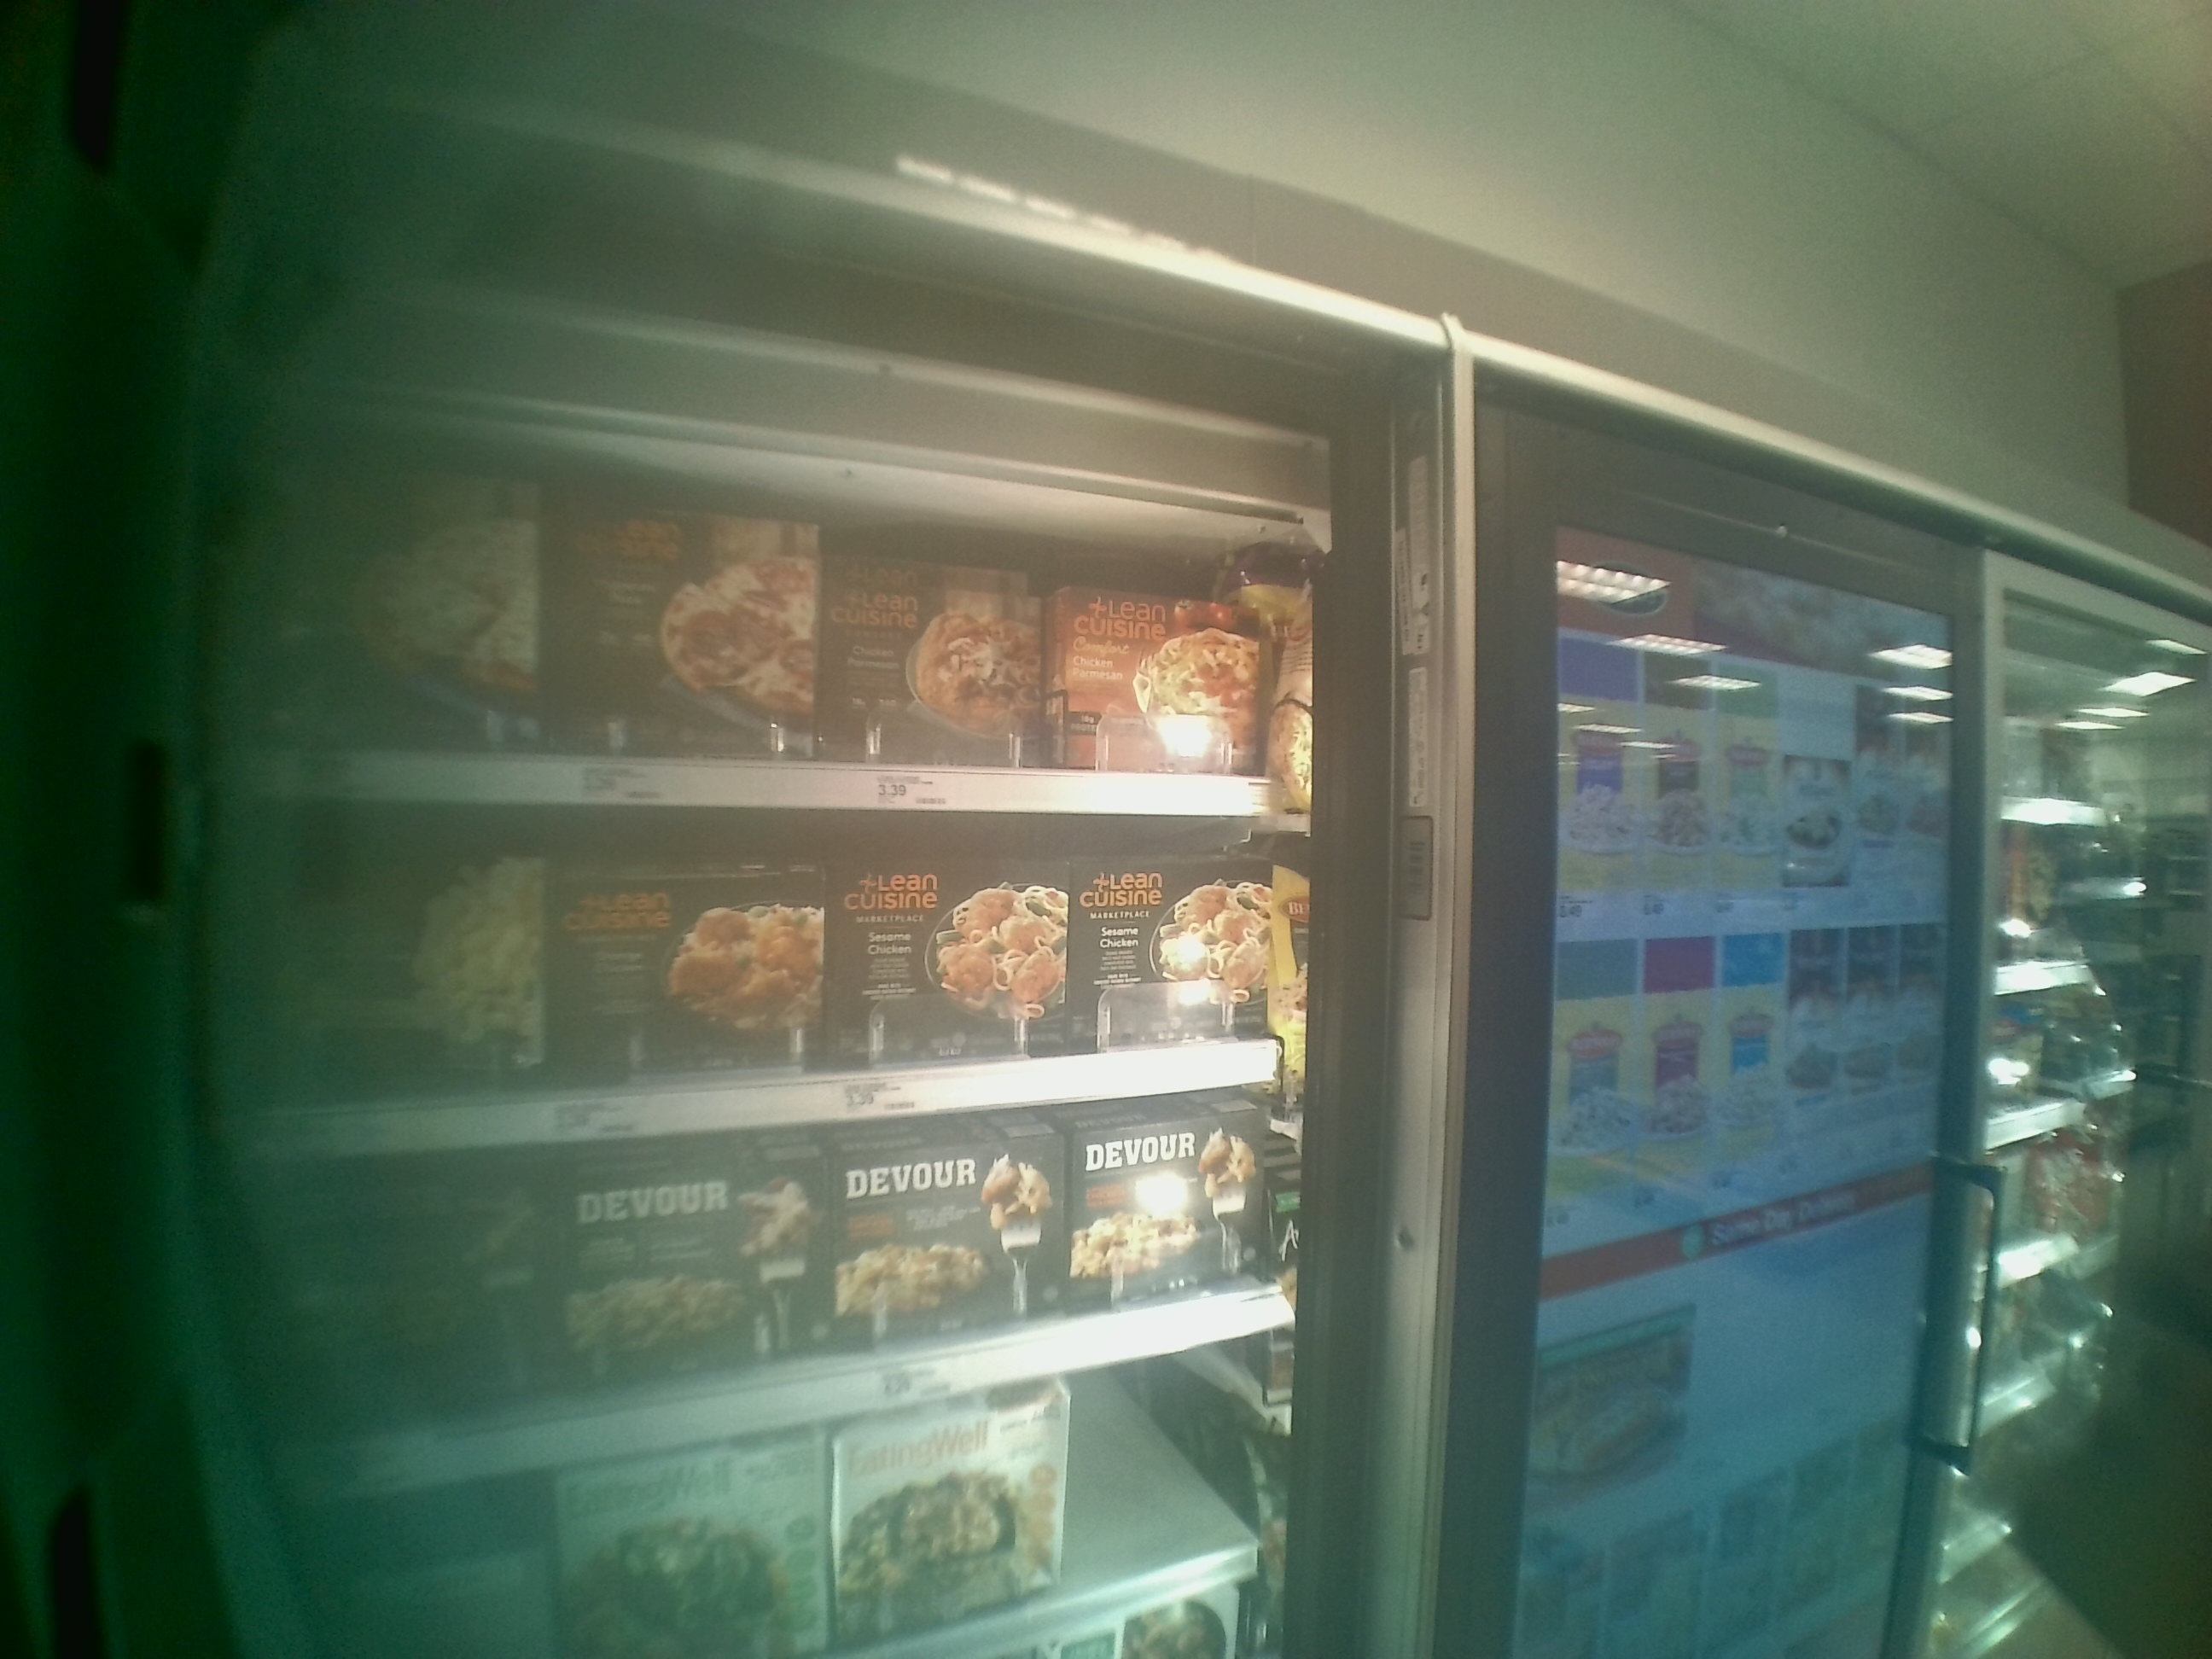shelf: (235, 420, 1294, 817), (218, 803, 1318, 1180)
